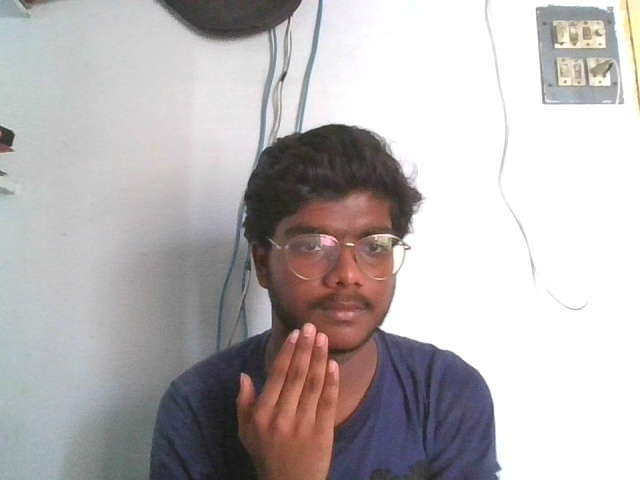Thanks: (233, 321, 343, 473)
